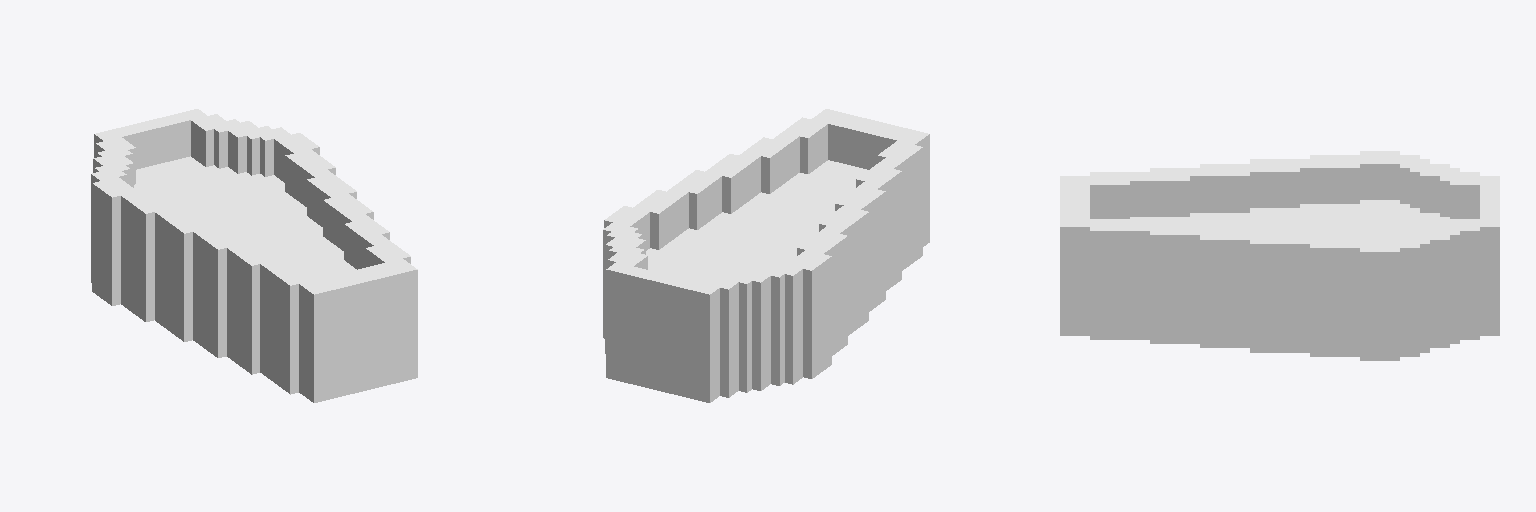
File: casket-open.obj
3 renders of one model, left to right at view 1: azimuth 30°, elevation 25°; view 2: azimuth 150°, elevation 25°; view 3: azimuth 270°, elevation 25°, orthographic.
Parts seen in each view (by area): view 1: object 1; view 2: object 1; view 3: object 1.
Part boxes in pixels (bbox=[...]): object 1: bbox=[91, 109, 417, 402]; object 1: bbox=[603, 109, 929, 402]; object 1: bbox=[1060, 151, 1499, 360].
Bounding box in the file's own units: 2.4 × 1.2 × 4.4.